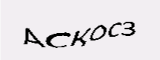В: (17, 19, 32, 49)
Ж: (88, 32, 116, 55)
К: (36, 22, 58, 49)
Ф: (121, 33, 145, 56)
Ш: (62, 21, 86, 46)
